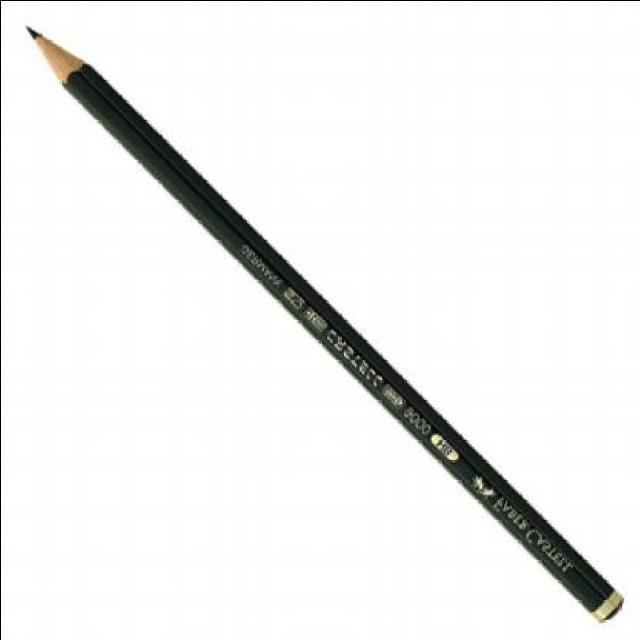pencil: (15, 22, 96, 100)
